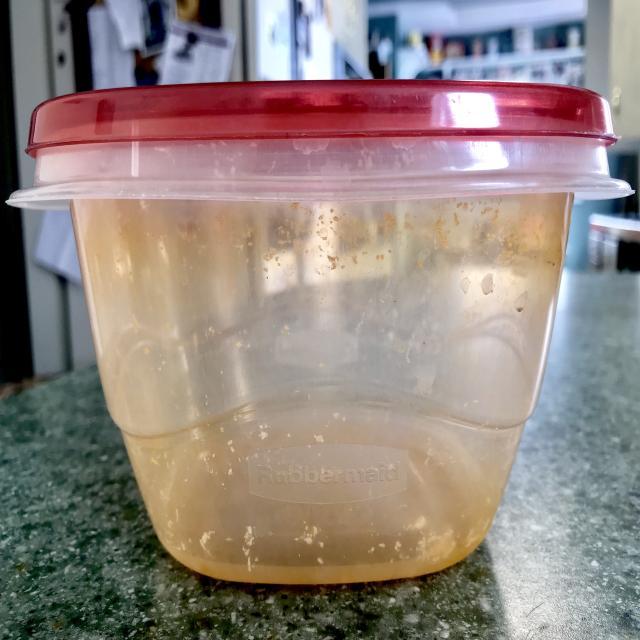plastic: (16, 84, 627, 585)
